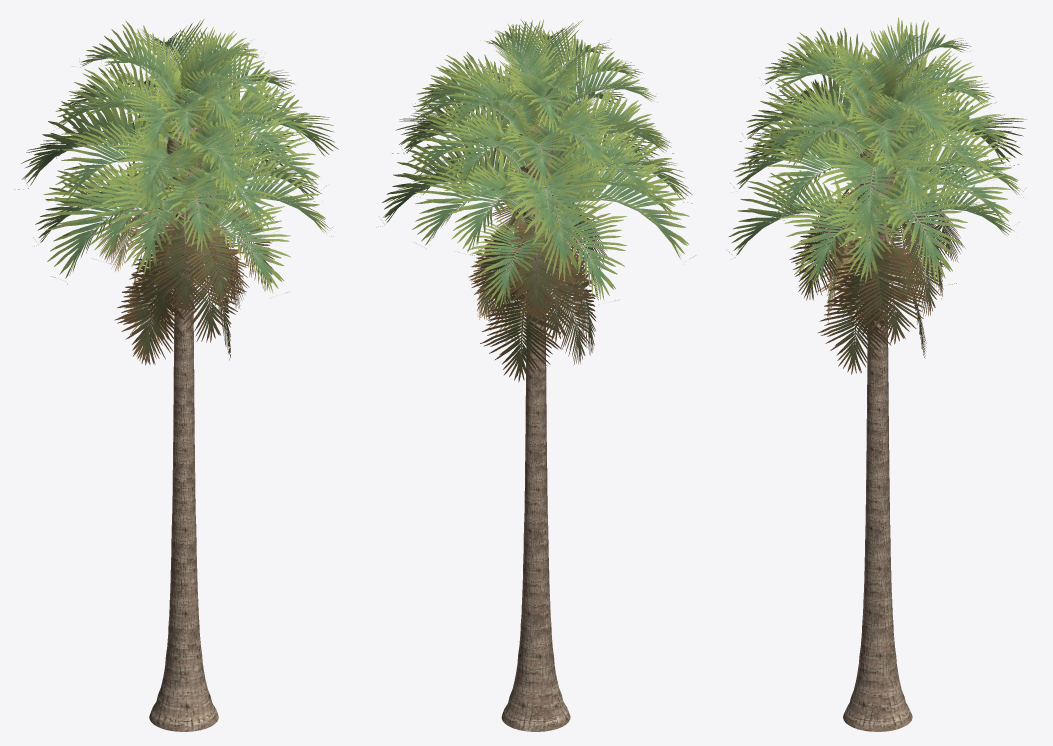
The model's file is scene-palm.glb.
The picture shows the model from 3 angles, left to right: view 1: azimuth 30°, elevation 25°; view 2: azimuth 150°, elevation 25°; view 3: azimuth 270°, elevation 25°; orthographic projection.
Parts seen in each view (by area): view 1: Tree_1_Palm_4_Leaf_0, Tree_1_Plam_4_Trunk_0; view 2: Tree_1_Palm_4_Leaf_0, Tree_1_Plam_4_Trunk_0; view 3: Tree_1_Palm_4_Leaf_0, Tree_1_Plam_4_Trunk_0.
Part boxes in pixels (x1,y1,x2,y2): Tree_1_Palm_4_Leaf_0: (14, 18, 338, 365); Tree_1_Plam_4_Trunk_0: (149, 92, 218, 731); Tree_1_Palm_4_Leaf_0: (376, 19, 695, 382); Tree_1_Plam_4_Trunk_0: (501, 97, 570, 731); Tree_1_Palm_4_Leaf_0: (726, 17, 1026, 374); Tree_1_Plam_4_Trunk_0: (843, 96, 912, 731).
Bounding box in the file's own units: 2.22 × 5 × 2.07.
Materials: 2 (2 with a texture image).
